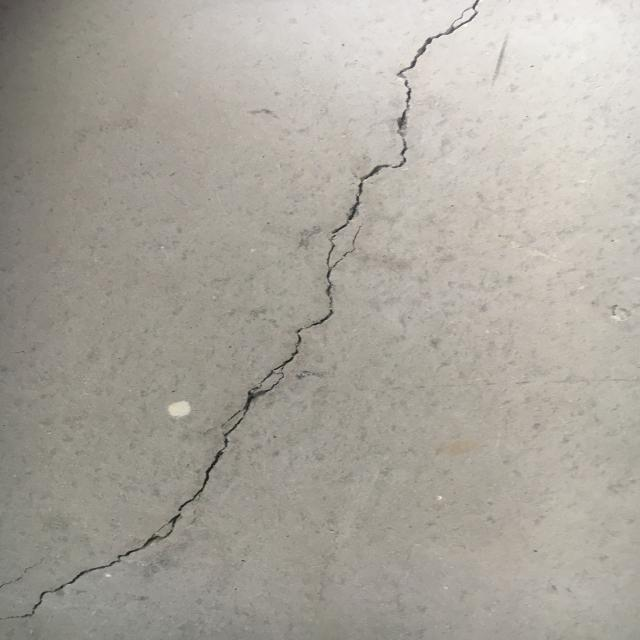Rachadura: (5, 0, 480, 619)
